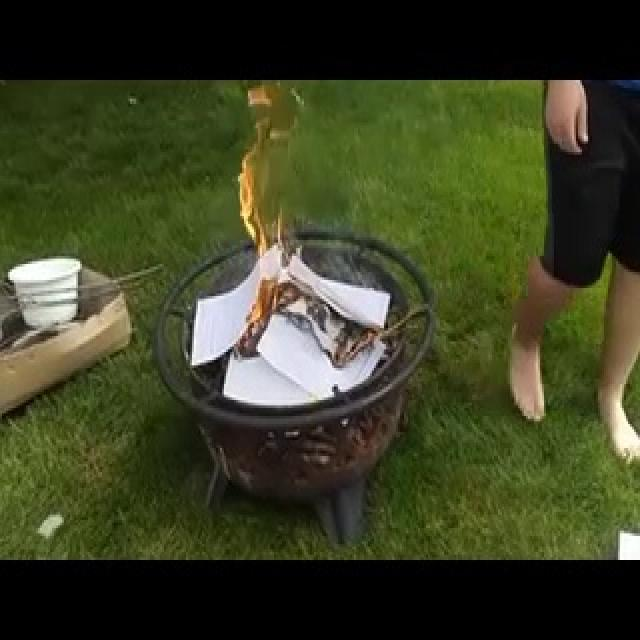Fire: (228, 82, 290, 330)
